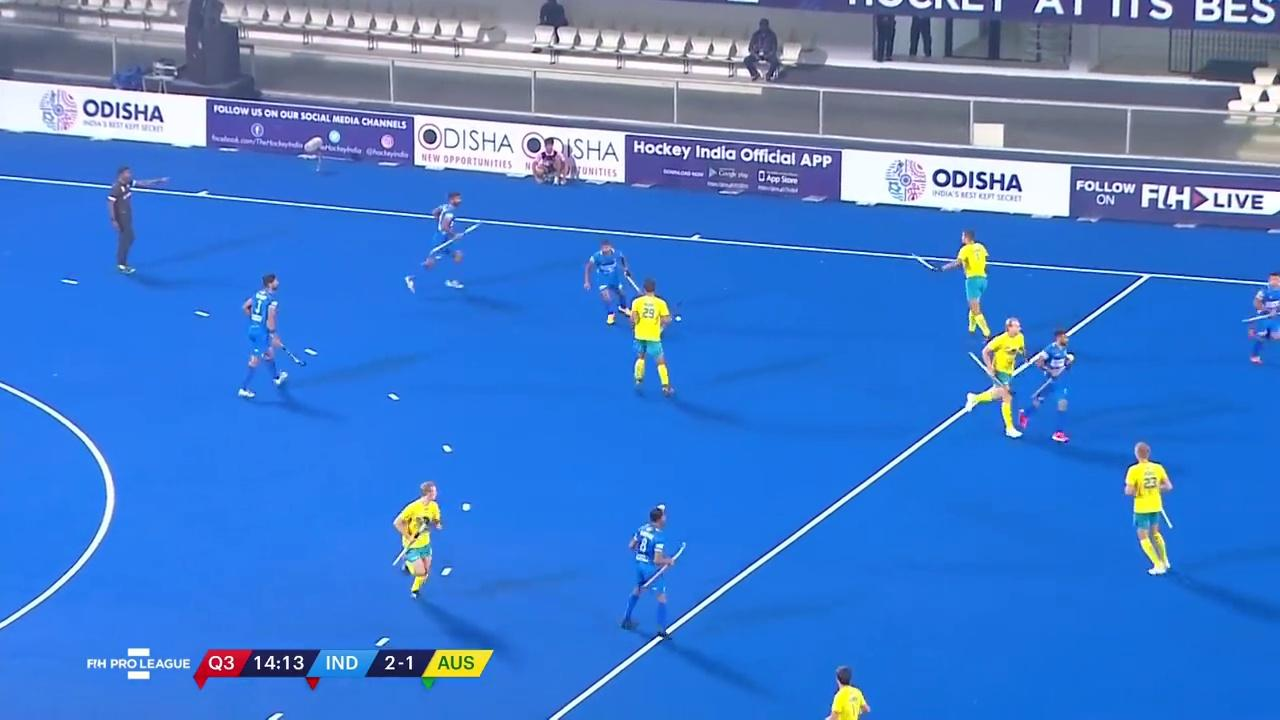ball: (671, 308, 692, 328)
